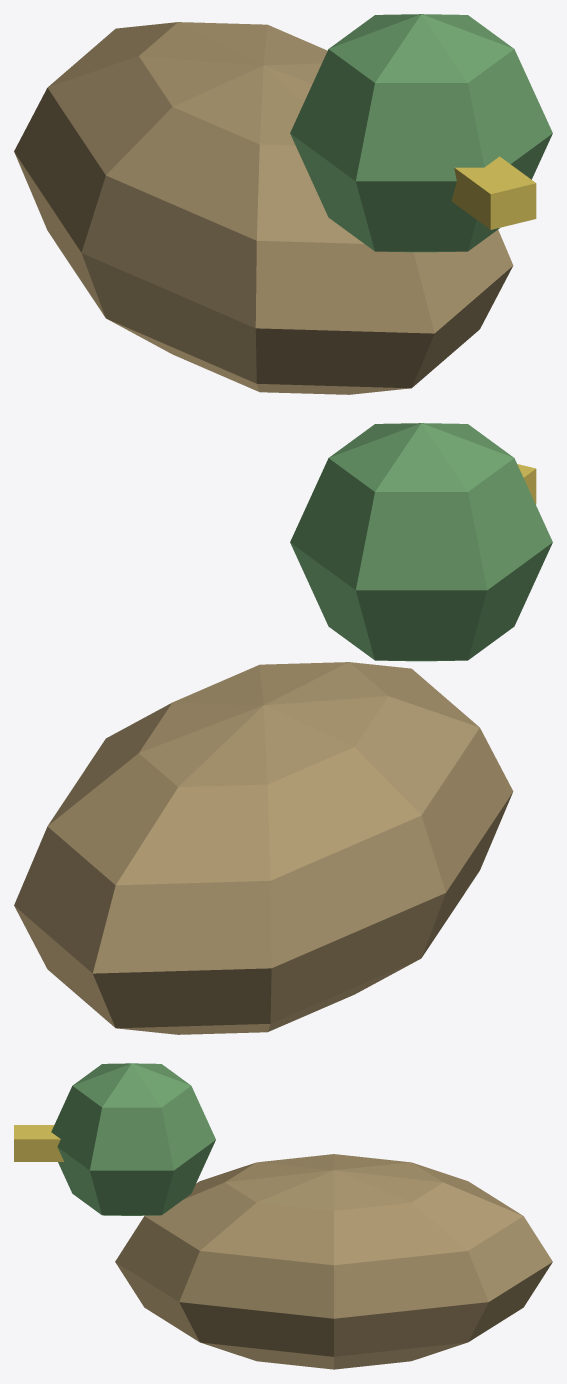
File: duck_decoy.glb
3 views of the same model, one above another, from view 1: azimuth 30°, elevation 25°; view 2: azimuth 150°, elevation 25°; view 3: azimuth 270°, elevation 25° (orthographic). The views are drawn at different scales.
Visible parts, largest first — view 1: DuckDecoy; view 2: DuckDecoy; view 3: DuckDecoy.
Part boxes in pixels (bbox=[...]): DuckDecoy: bbox=[14, 14, 552, 394]; DuckDecoy: bbox=[14, 423, 552, 1034]; DuckDecoy: bbox=[14, 1063, 552, 1369].
Size of the model in its own units: 0.16 by 0.19 by 0.32.
